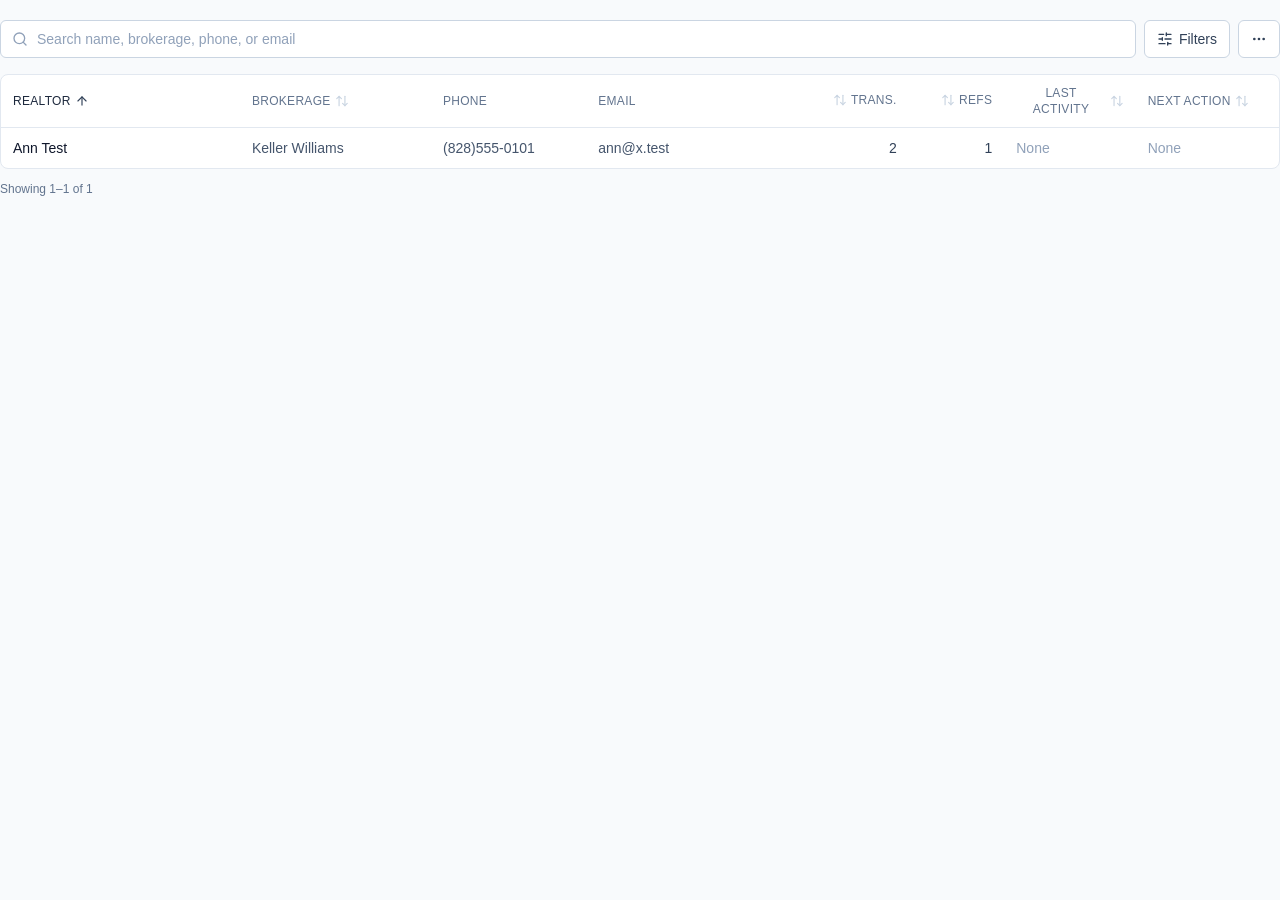
Test: customize directory layout › rolls back if saving fails
Click the button named "More directory options": (1259, 39) [1238,20,1279,58]
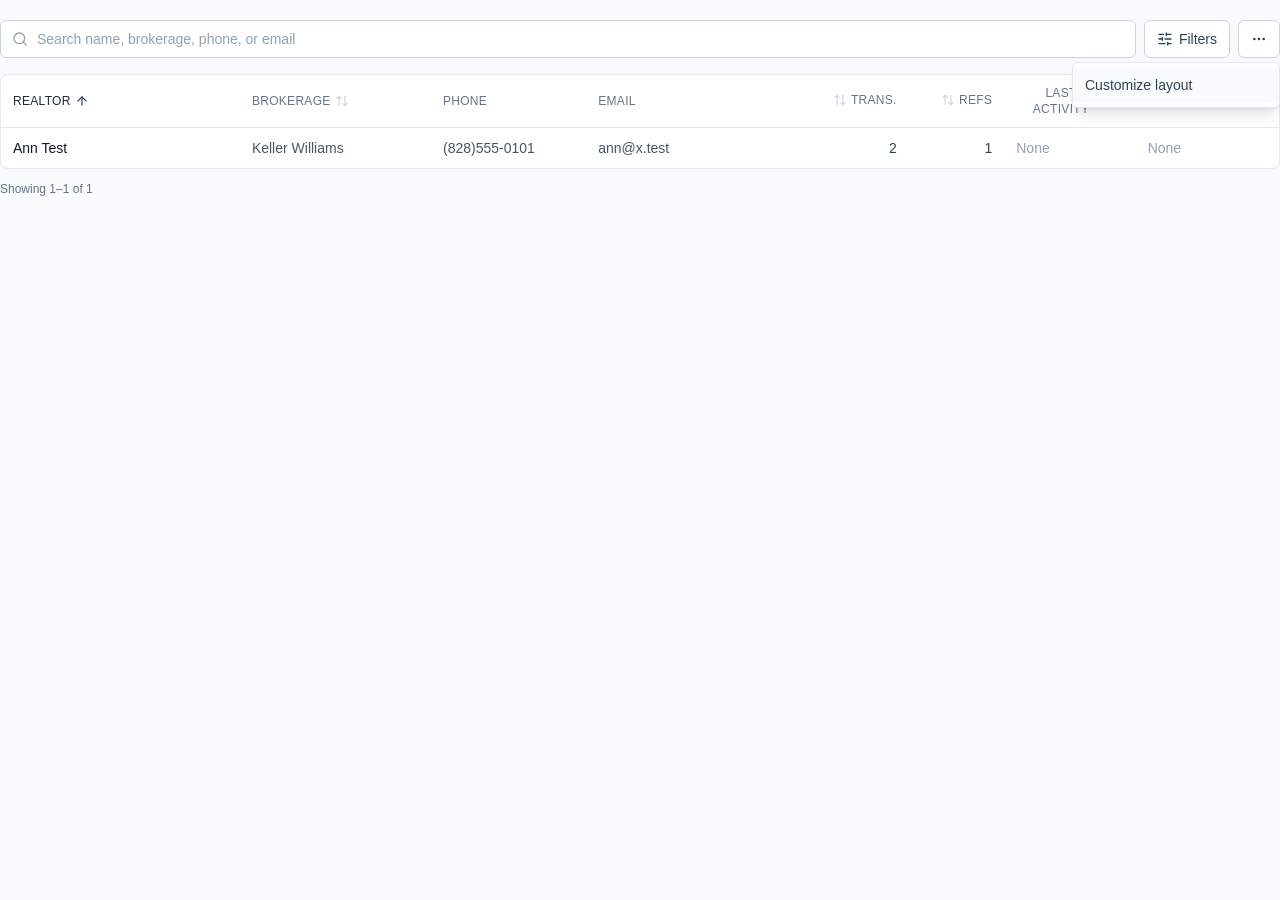
Click the menu item "Customize layout": (1176, 85) [1073,67,1279,103]
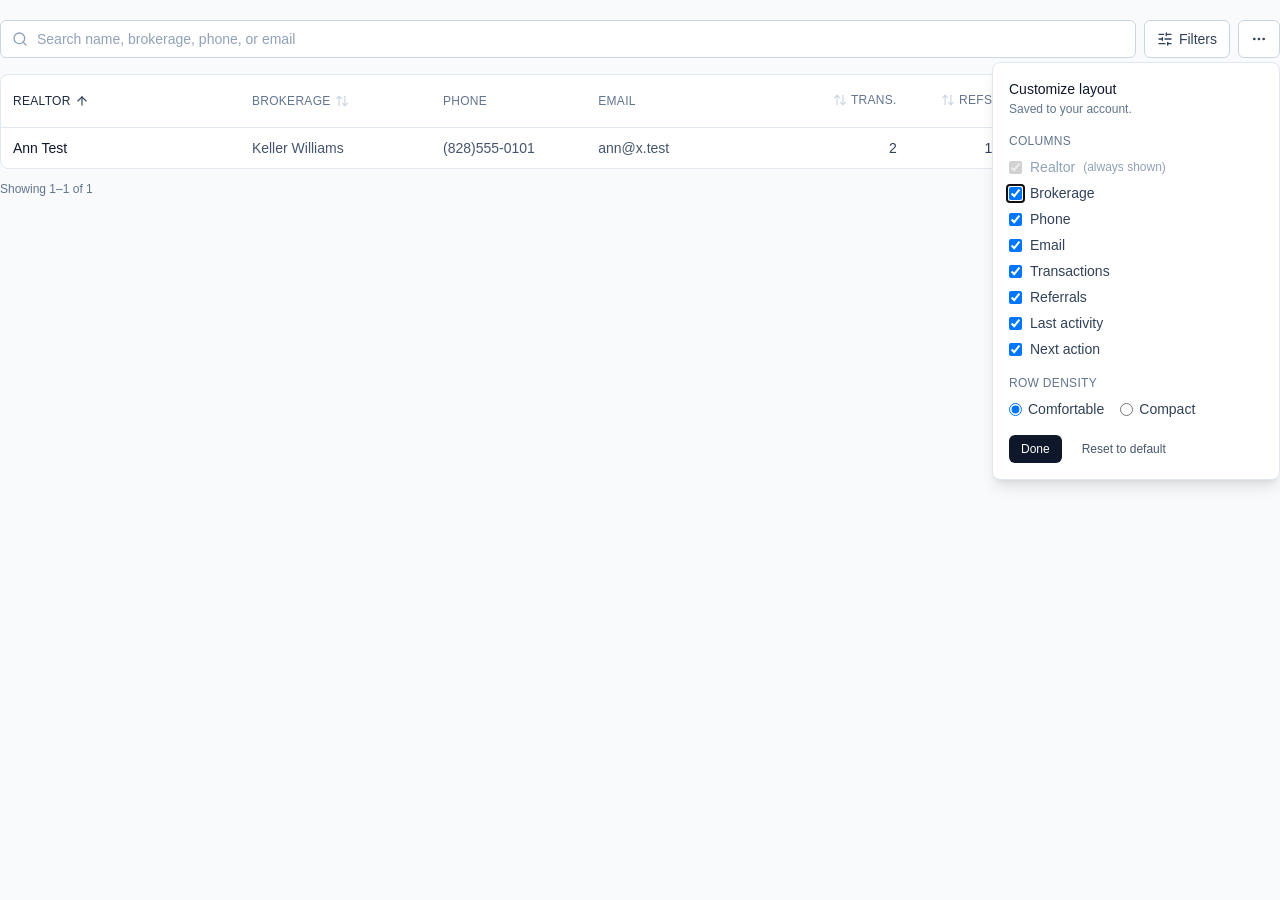
Click the checkbox labelled "Phone": (1016, 219) [1009,212,1022,226]
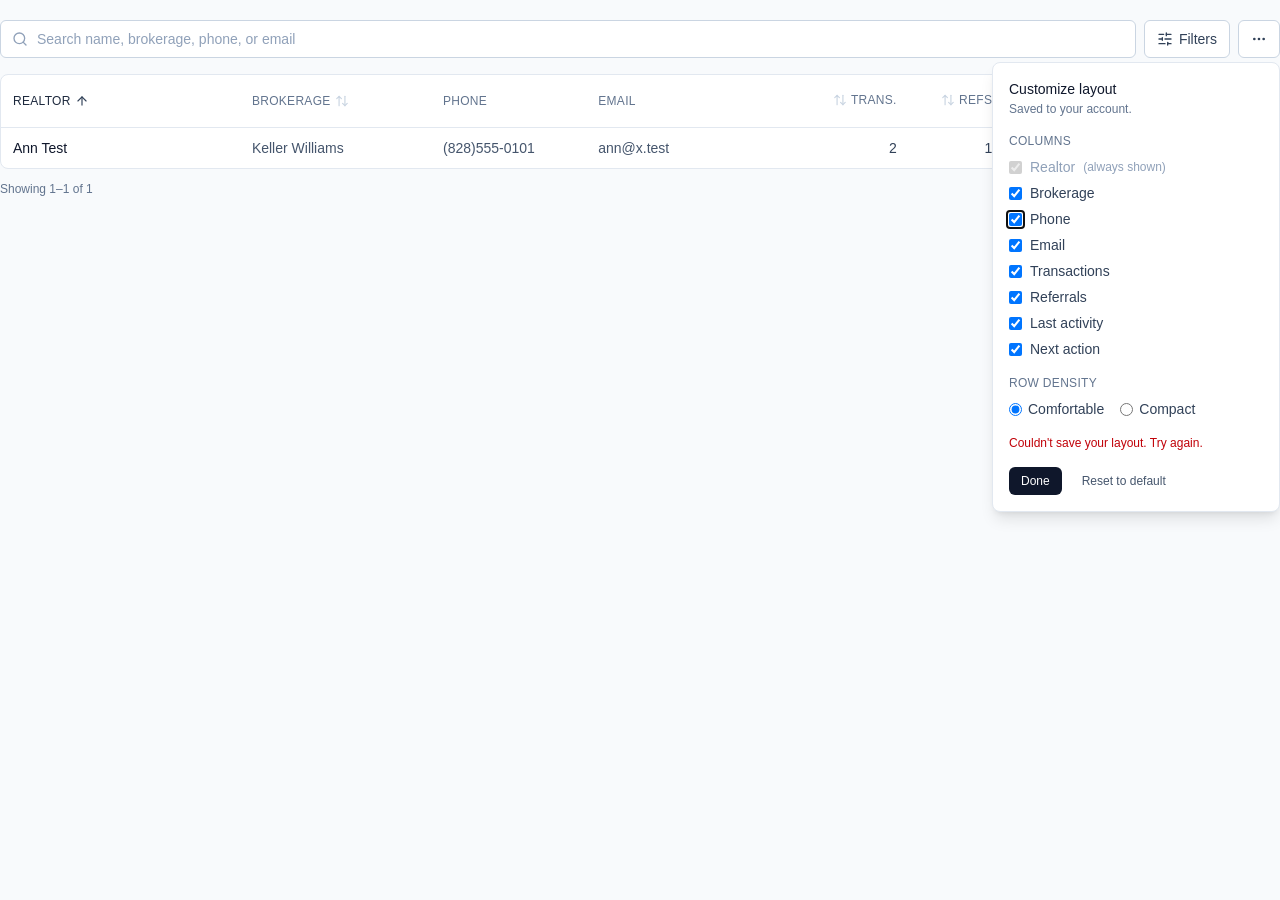
Now the message "Couldn't save your layout. Try again." is shown, box [1009,436,1203,450]
